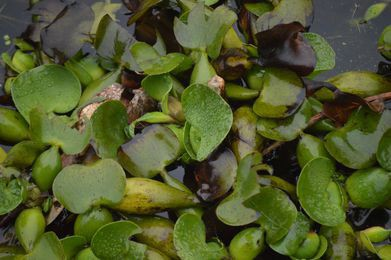water_hyacinth: (2, 2, 391, 260)
